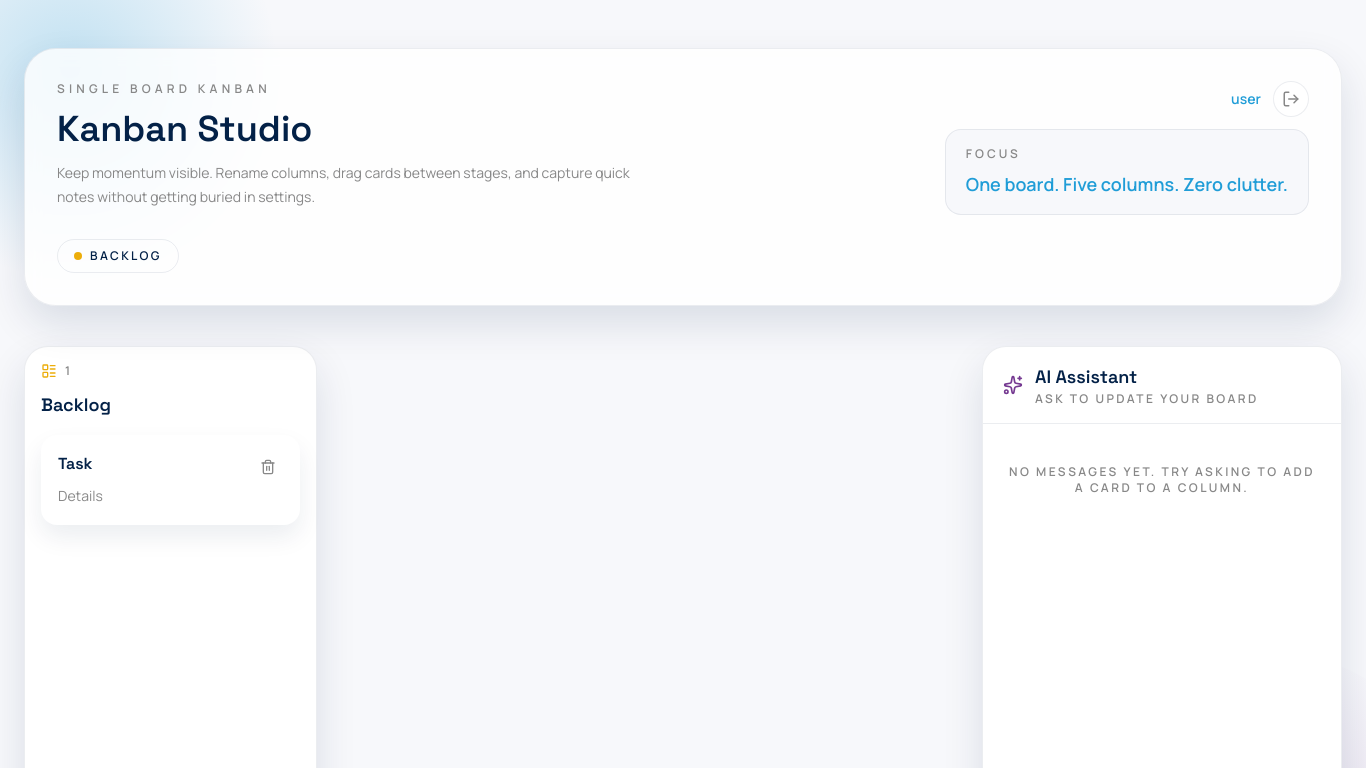
Test: AuthGate › logs out and returns to the login form
This screenshot has width=1366, height=768.
Expected: the heading "Kanban Studio" is shown, [57,106,312,152]
Click the button named "log out": coordinates (1291, 99) [1273,81,1309,117]
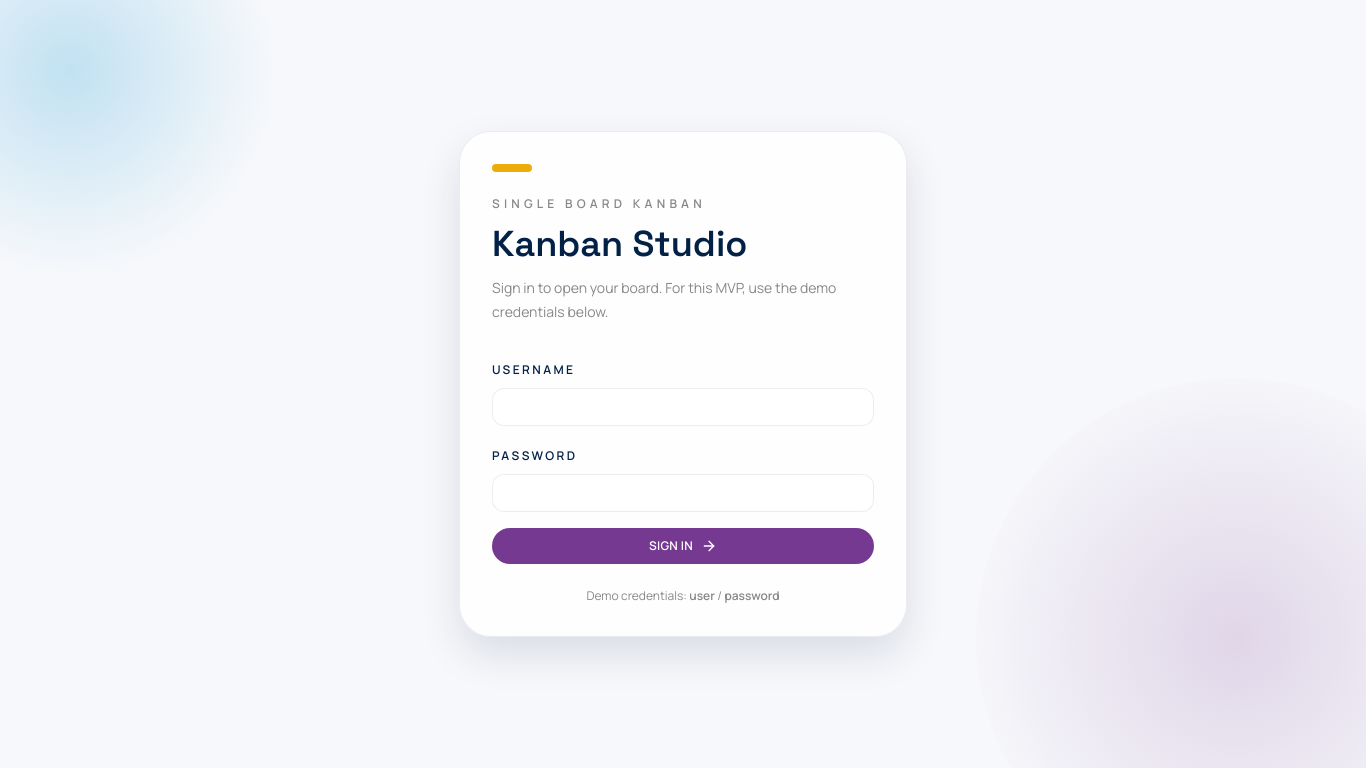
Result: the form with test id "login-form" is shown at [492,356,874,564]
